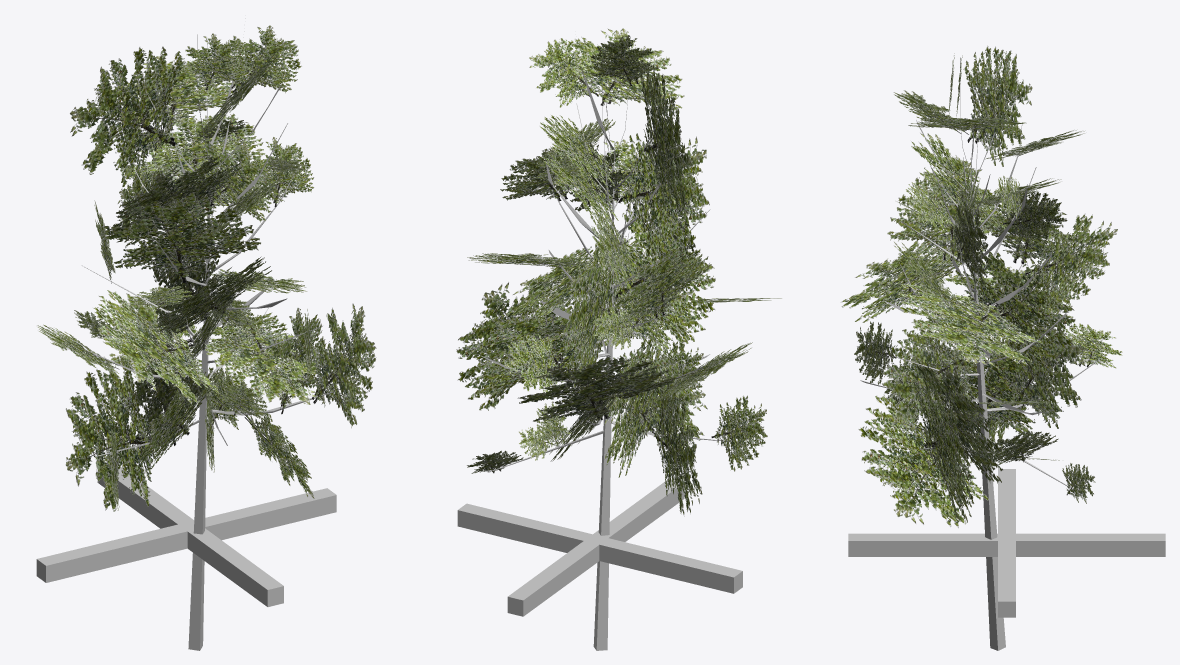
File: tree.obj
3 renders of one model, left to right at view 1: azimuth 30°, elevation 25°; view 2: azimuth 150°, elevation 25°; view 3: azimuth 270°, elevation 25°, orthographic. The views are drawn at different scales.
Parts seen in each view (by area): view 1: leaves_leaves.001, Support_Cube, tree_Mesh; view 2: leaves_leaves.001, Support_Cube, tree_Mesh; view 3: leaves_leaves.001, Support_Cube, tree_Mesh.
Boxes of the visible parts, x1,y1,x2,y2 form: leaves_leaves.001: (37,25,376,511); Support_Cube: (36,465,336,606); tree_Mesh: (82,18,335,650); leaves_leaves.001: (456,28,781,516); Support_Cube: (457,479,742,616); tree_Mesh: (481,40,730,650); leaves_leaves.001: (840,45,1122,528); Support_Cube: (848,469,1165,617); tree_Mesh: (860,57,1097,650).
Size of the model in its own units: 10.38 by 18.33 by 9.43.
